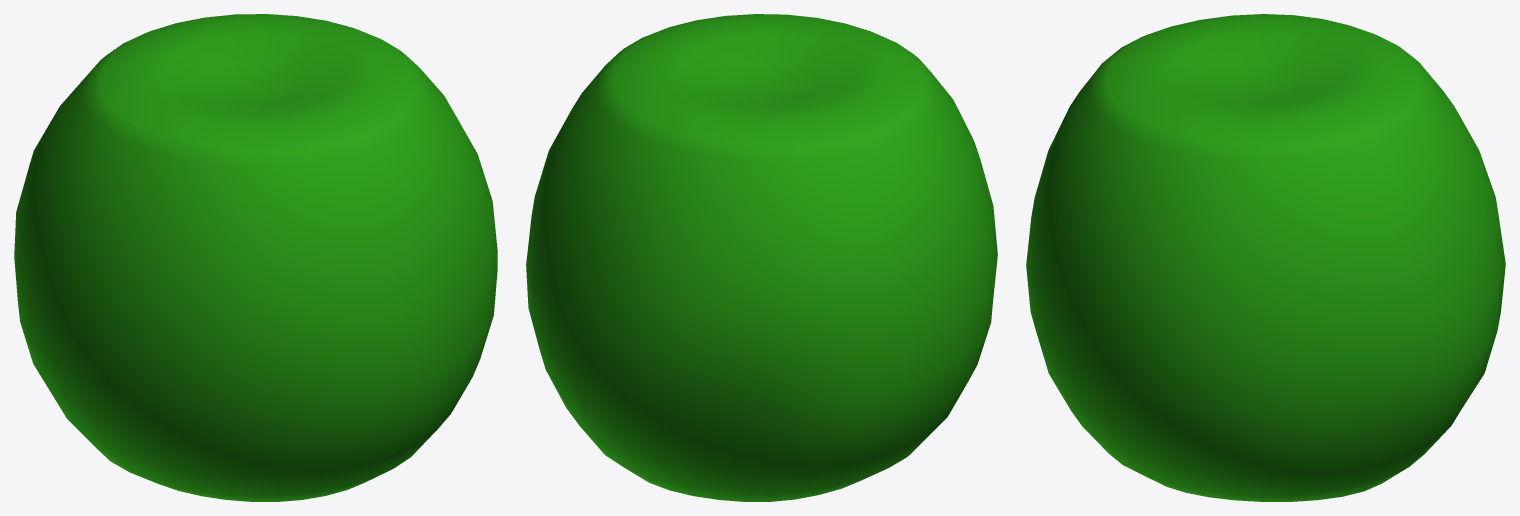
The model's file is cage_pea.glb.
3 renders of one model, left to right at view 1: azimuth 30°, elevation 25°; view 2: azimuth 150°, elevation 25°; view 3: azimuth 270°, elevation 25°, orthographic.
Parts seen in each view (by area): view 1: cage_pea; view 2: cage_pea; view 3: cage_pea.
Part boxes in pixels (bbox=[...]): cage_pea: bbox=[14, 14, 497, 501]; cage_pea: bbox=[526, 14, 997, 501]; cage_pea: bbox=[1026, 14, 1505, 501].
Size of the model in its own units: 3.31 by 3 by 3.33.
